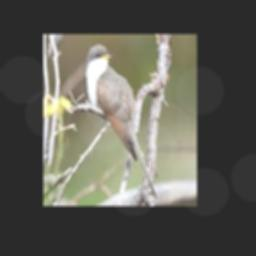Cuckoo: (84, 44, 157, 200)
